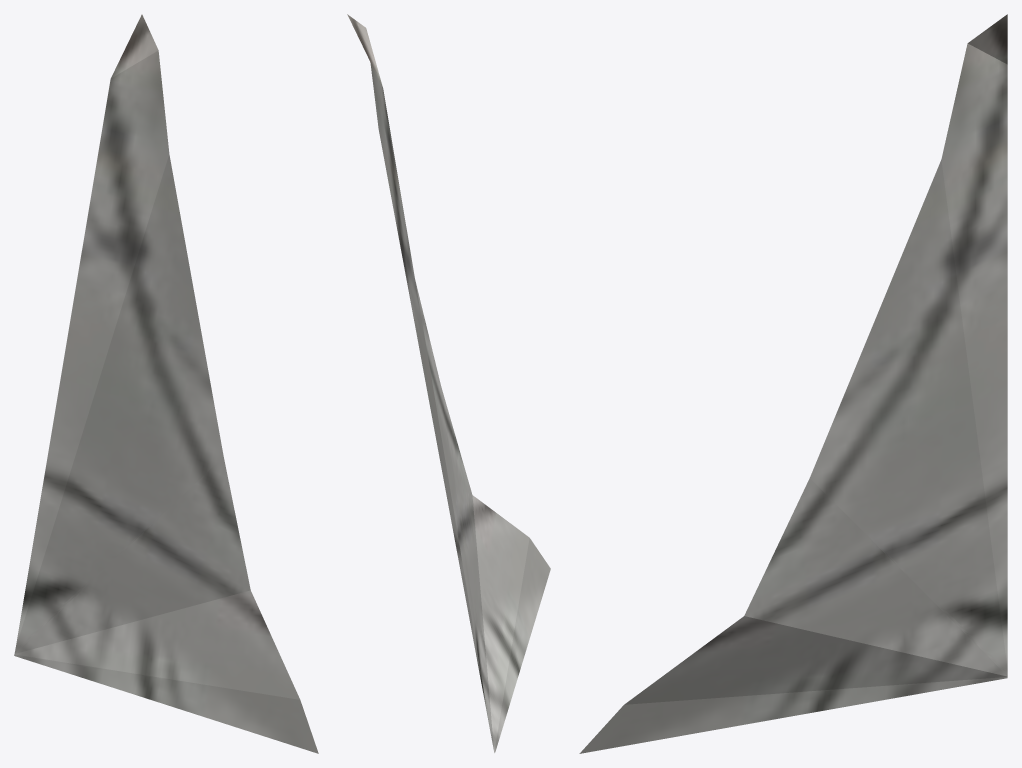
3 renders of one model, left to right at view 1: azimuth 30°, elevation 25°; view 2: azimuth 150°, elevation 25°; view 3: azimuth 270°, elevation 25°, orthographic. The views are drawn at different scales.
Bounding box in the file's own units: 0.1166 × 0.532 × 0.2792.
Materials: 1 (1 with a texture image).
